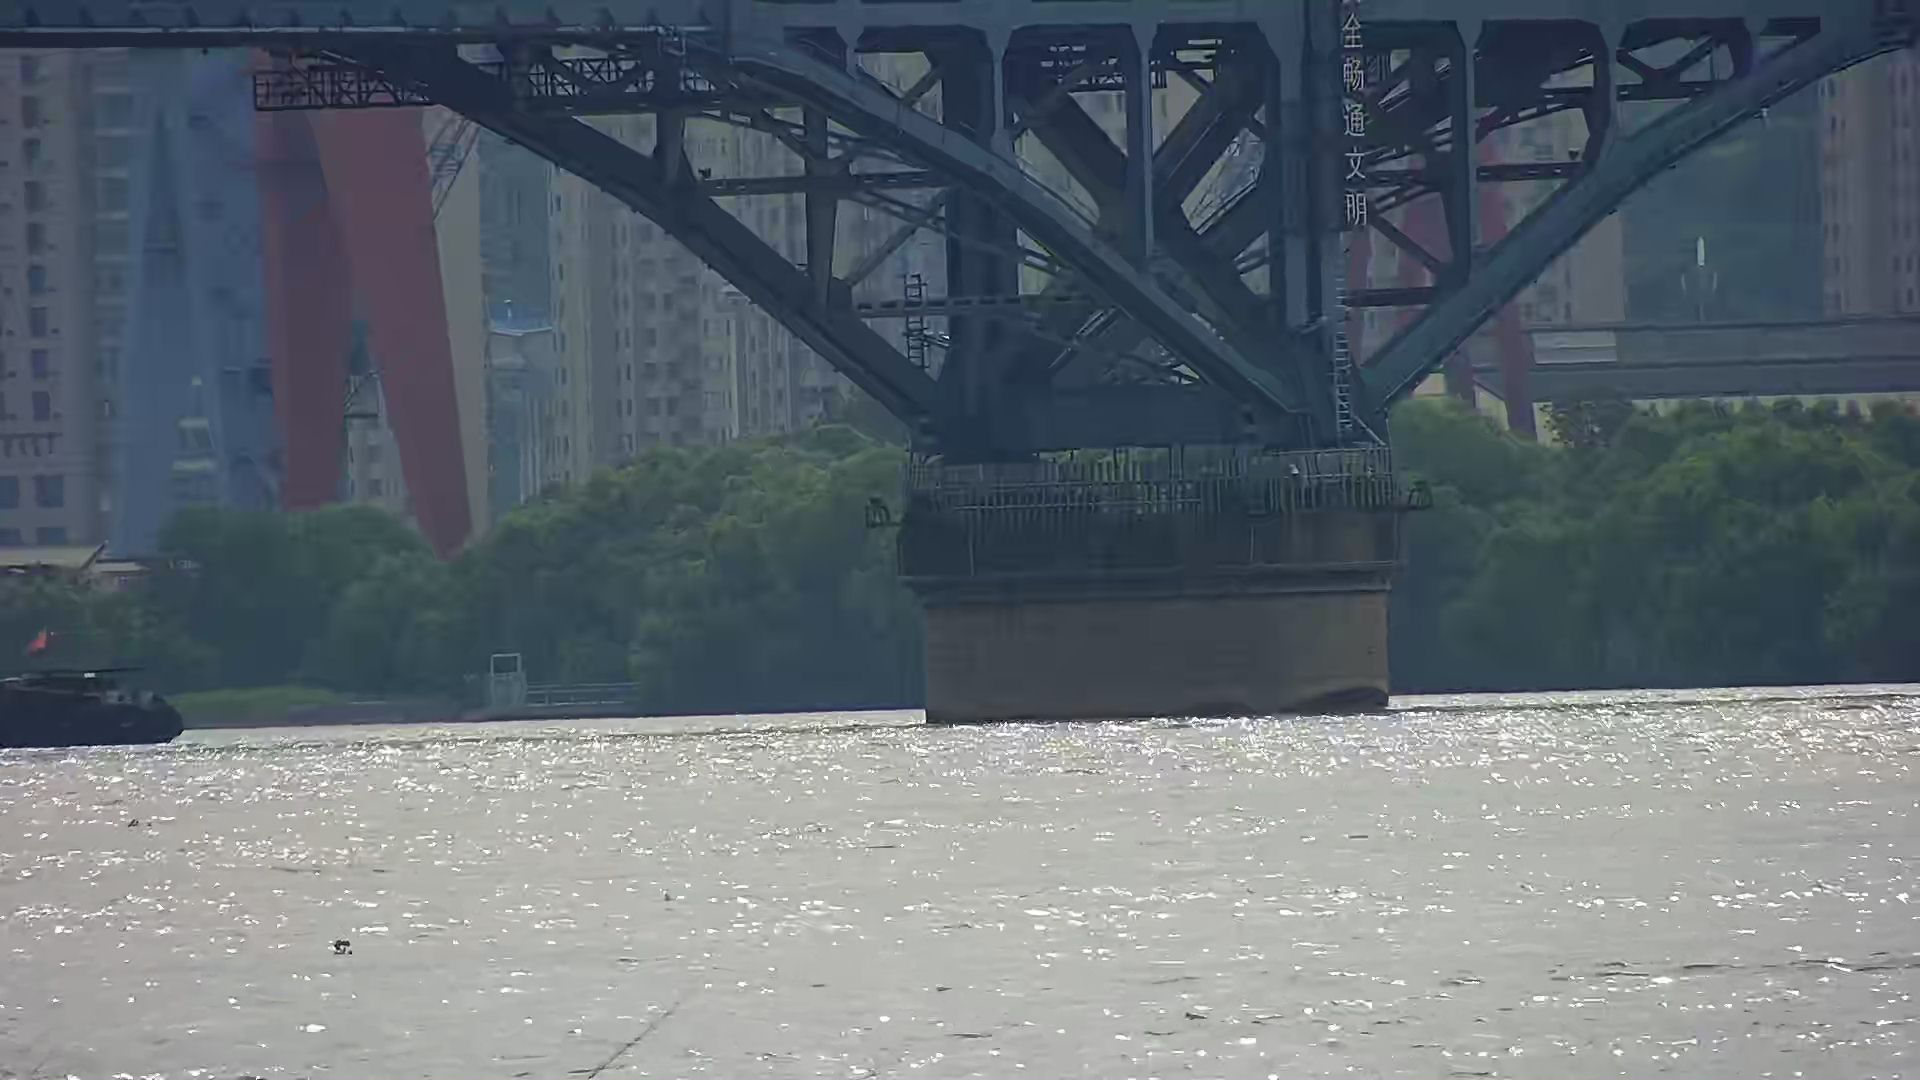bridge: (1, 1, 1919, 725)
ship: (1, 625, 182, 745)
